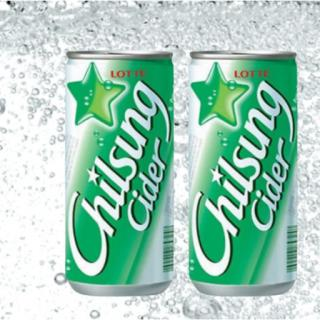chilsung: (185, 48, 301, 298), (64, 47, 175, 296)
